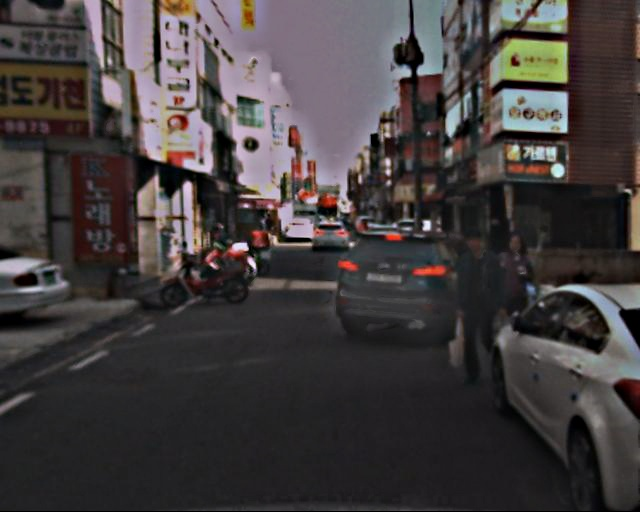person: (444, 227, 510, 385), (486, 232, 545, 364), (263, 214, 277, 248)
